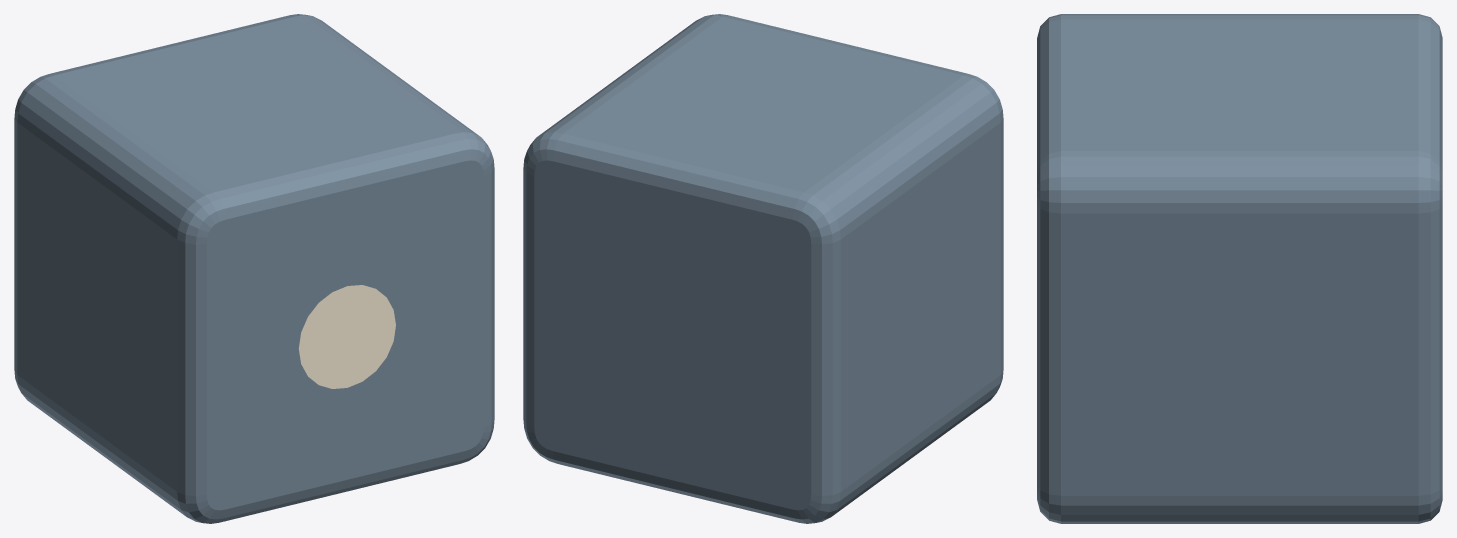
The model's file is budget-marker-3.glb.
3 views of the same model, side by side, from view 1: azimuth 30°, elevation 25°; view 2: azimuth 150°, elevation 25°; view 3: azimuth 270°, elevation 25° (orthographic). The views are drawn at different scales.
Visible parts, largest first — view 1: budget-marker-3; view 2: budget-marker-3; view 3: budget-marker-3.
Part boxes in pixels (x1,y1,x2,y2): budget-marker-3: (14, 14, 494, 523); budget-marker-3: (523, 14, 1003, 523); budget-marker-3: (1037, 14, 1442, 523).
Bounding box in the file's own units: 0.008 × 0.008 × 0.0081.
